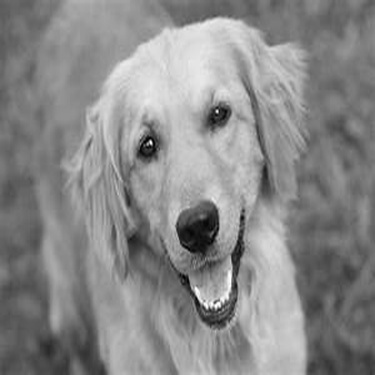dog: (22, 4, 316, 369)
